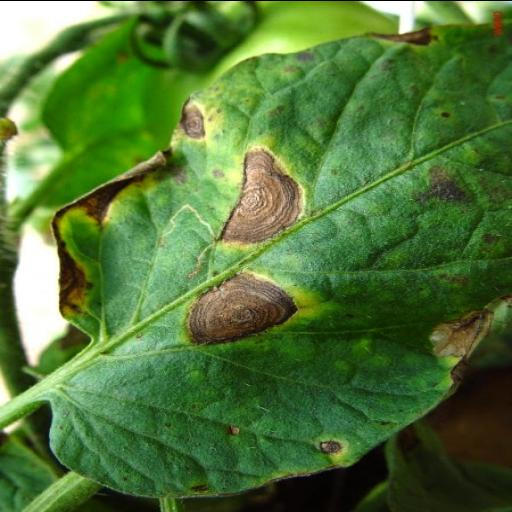Early Blight: (26, 24, 512, 497)
